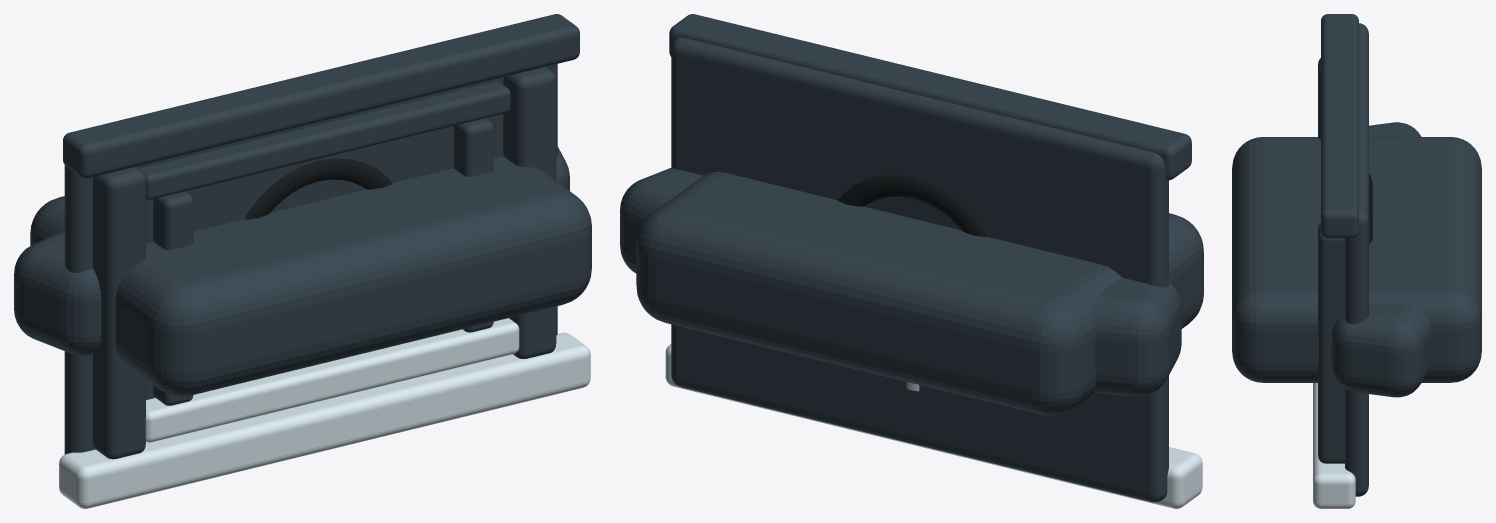
File: body_12.glb
The picture shows the model from 3 angles, left to right: view 1: azimuth 30°, elevation 25°; view 2: azimuth 150°, elevation 25°; view 3: azimuth 270°, elevation 25°; orthographic projection. The views are drawn at different scales.
Parts seen in each view (by area): view 1: asset_mesh__body_0593__reference_body, asset_mesh__body_0584__upper_flange, asset_mesh__body_0584__lower_flange, asset_mesh__body_0584__stamped_sheet, asset_mesh__body_0588__upper_flange, asset_mesh__body_0588__lower_flange, asset_mesh__body_0584__left_reinforcement, asset_mesh__body_0583__left_return, asset_mesh__body_0584__right_reinforcement, asset_mesh__body_0614__service_element, asset_mesh__body_0588__left_reinforcement, asset_mesh__body_0588__right_reinforcement; view 2: asset_mesh__body_0584__stamped_sheet, asset_mesh__body_0593__reference_body, asset_mesh__body_0584__lower_flange, asset_mesh__body_0583__left_return, asset_mesh__body_0583__right_return, asset_mesh__body_0614__service_element, asset_mesh__body_0584__upper_flange; view 3: asset_mesh__body_0593__reference_body, asset_mesh__body_0584__lower_flange, asset_mesh__body_0583__right_return, asset_mesh__body_0584__stamped_sheet, asset_mesh__body_0584__right_reinforcement, asset_mesh__body_0584__upper_flange, asset_mesh__body_0583__left_return.
Part boxes in pixels (x1,y1,x2,y2): asset_mesh__body_0593__reference_body: (30,156,591,396); asset_mesh__body_0584__upper_flange: (59,332,590,508); asset_mesh__body_0584__lower_flange: (63,14,579,178); asset_mesh__body_0584__stamped_sheet: (64,64,557,454); asset_mesh__body_0588__upper_flange: (145,318,519,442); asset_mesh__body_0588__lower_flange: (139,81,510,199); asset_mesh__body_0584__left_reinforcement: (93,167,145,459); asset_mesh__body_0583__left_return: (14,231,101,355); asset_mesh__body_0584__right_reinforcement: (503,67,556,358); asset_mesh__body_0614__service_element: (244,158,392,219); asset_mesh__body_0588__left_reinforcement: (153,191,193,405); asset_mesh__body_0588__right_reinforcement: (454,118,493,332); asset_mesh__body_0584__stamped_sheet: (671,37,1168,502); asset_mesh__body_0593__reference_body: (636,171,1203,415); asset_mesh__body_0584__lower_flange: (669,14,1191,180); asset_mesh__body_0583__left_return: (1094,277,1181,396); asset_mesh__body_0583__right_return: (620,168,703,273); asset_mesh__body_0614__service_element: (838,175,987,236); asset_mesh__body_0584__upper_flange: (665,344,1202,508); asset_mesh__body_0593__reference_body: (1232,137,1481,382); asset_mesh__body_0584__lower_flange: (1321,14,1358,238); asset_mesh__body_0583__right_return: (1331,304,1431,397); asset_mesh__body_0584__stamped_sheet: (1345,23,1368,496); asset_mesh__body_0584__right_reinforcement: (1318,223,1344,463); asset_mesh__body_0584__upper_flange: (1313,383,1355,508); asset_mesh__body_0583__left_return: (1369,122,1421,136).
Size of the model in its own units: 1.8 by 1.15 by 0.882.
